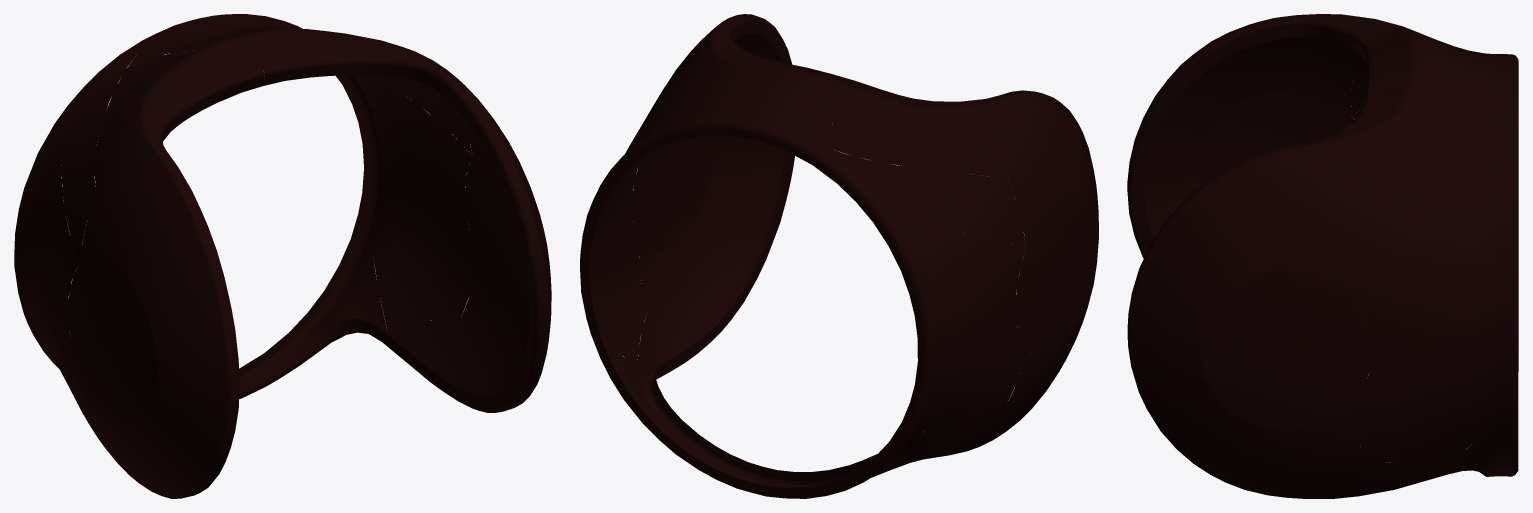
Rendered from sim_gene01_l_shoulder_2.obj.
3 renders of one model, left to right at view 1: azimuth 30°, elevation 25°; view 2: azimuth 150°, elevation 25°; view 3: azimuth 270°, elevation 25°, orthographic. The views are drawn at different scales.
Visible parts, largest first — view 1: sim_gene01_l_shoulder_2; view 2: sim_gene01_l_shoulder_2; view 3: sim_gene01_l_shoulder_2.
Part boxes in pixels (x1=…): sim_gene01_l_shoulder_2: x1=14, y1=14, x2=551, y2=498; sim_gene01_l_shoulder_2: x1=580, y1=14, x2=1098, y2=498; sim_gene01_l_shoulder_2: x1=1127, y1=14, x2=1518, y2=498.
Size of the model in its own units: 128 by 121 by 107.
